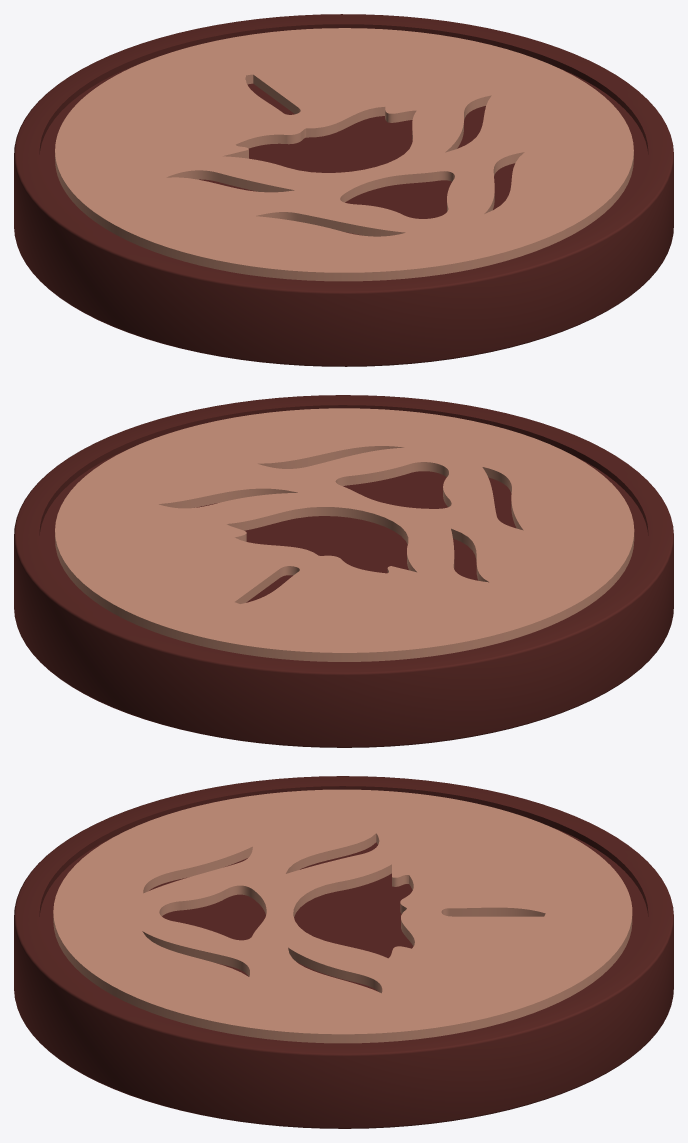
Rendered from WhiteJade_R.fbx.
3 views of the same model, one above another, from view 1: azimuth 30°, elevation 25°; view 2: azimuth 150°, elevation 25°; view 3: azimuth 270°, elevation 25° (orthographic).
Visible parts, largest first — view 1: Tile08; view 2: Tile08; view 3: Tile08.
Boxes of the visible parts, box(x1,y1,x2,y2) form: Tile08: box(14, 14, 673, 366); Tile08: box(14, 395, 673, 747); Tile08: box(14, 776, 673, 1128).
Bounding box in the file's own units: 13.25 × 1.73 × 13.25.
